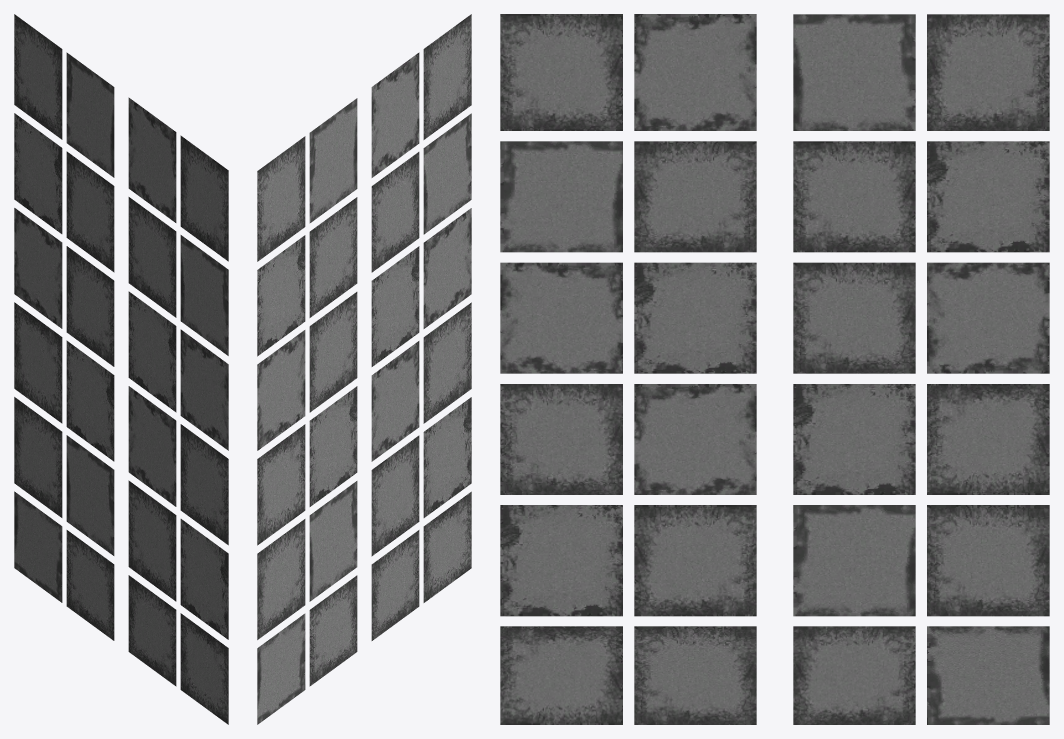
The model's file is Glas_Window.fbx.
The picture shows the model from 3 angles, left to right: view 1: azimuth 30°, elevation 25°; view 2: azimuth 150°, elevation 25°; view 3: azimuth 270°, elevation 25°; orthographic projection. The views are drawn at different scales.
Parts seen in each view (by area): view 1: Cube_021; view 2: Cube_021; view 3: Cube_021.
Boxes of the visible parts, bbox=[...] form: Cube_021: bbox=[14, 14, 228, 724]; Cube_021: bbox=[257, 14, 471, 724]; Cube_021: bbox=[500, 14, 1049, 724].
Bounding box in the file's own units: 0 × 7.62 × 5.34.
